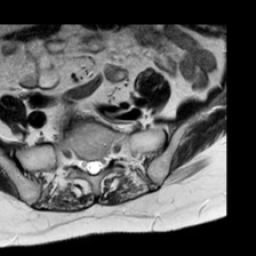CCS_stenosis: (90, 151, 97, 181)
LFS_normal: (105, 140, 114, 172)
LLS_normal: (97, 149, 105, 177)
RFS_normal: (75, 145, 82, 176)
RLS_normal: (82, 150, 90, 181)
